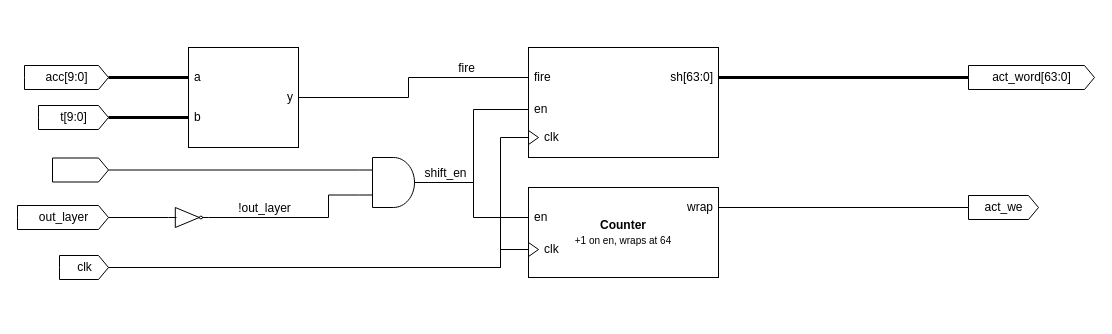
The diagram is 1112 pixels wide and 334 high, and some of its shapes have lost their labels. The shapes that lost their labels are listed below. From the top down, each one's box as (x1, y1, x2, y2) in pixels, then its label:
(188, 46, 298, 148): >= acc >= t
(528, 46, 718, 158): shift register en: sh <= {fire, sh[63:1]}
(52, 157, 108, 182): last
